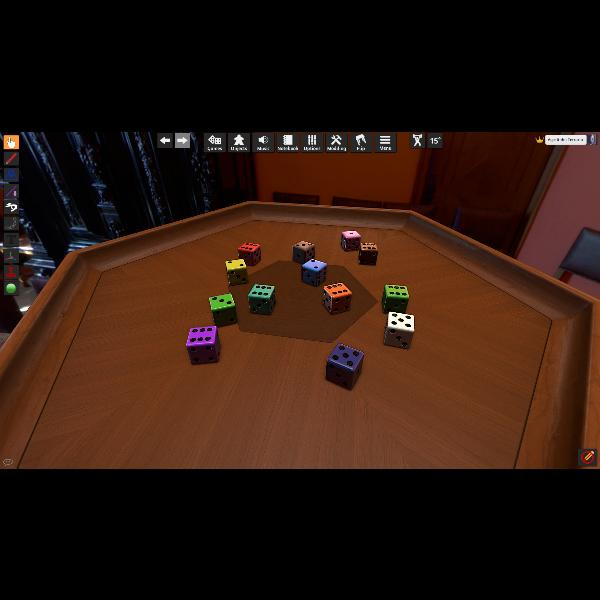d6: (325, 342, 364, 390), (189, 325, 222, 363), (384, 312, 416, 349), (248, 283, 276, 315), (209, 294, 236, 326), (324, 282, 350, 314), (383, 284, 410, 314), (301, 258, 324, 286), (226, 258, 248, 286), (238, 242, 260, 266), (358, 242, 378, 266), (292, 241, 312, 263), (341, 230, 361, 252)
